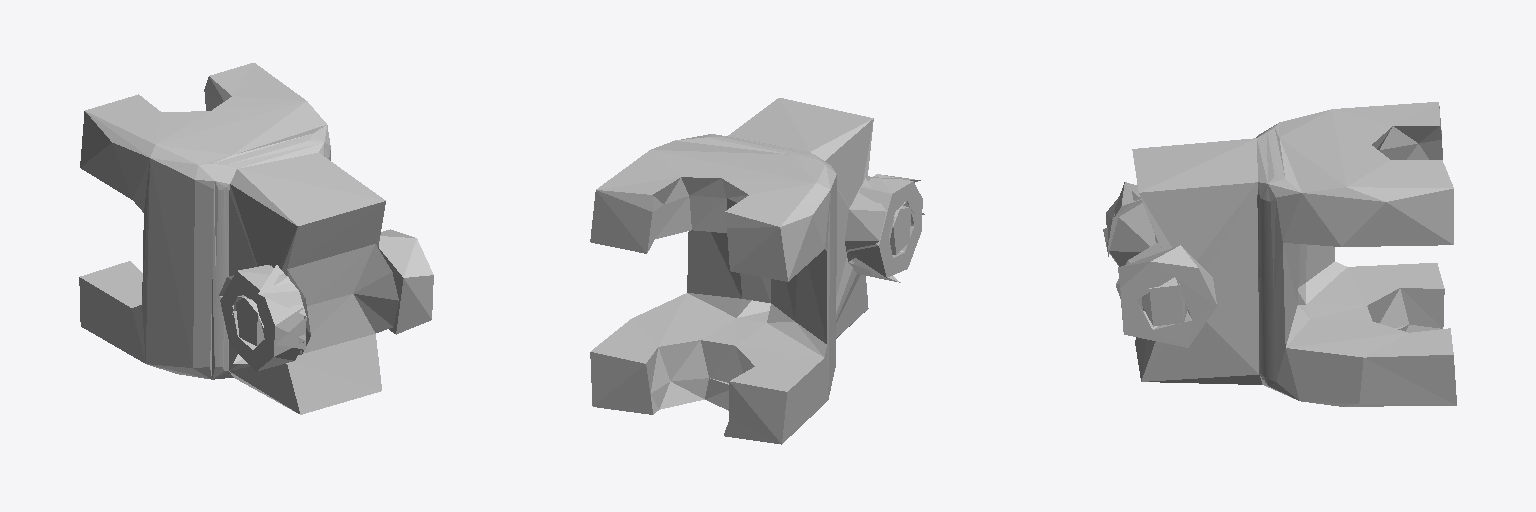
The model's file is right_visual_ring_mp_mesh_mesh.obj.
3 renders of one model, left to right at view 1: azimuth 30°, elevation 25°; view 2: azimuth 150°, elevation 25°; view 3: azimuth 270°, elevation 25°, orthographic.
Size of the model in its own units: 0.0174 by 0.0191 by 0.0273.